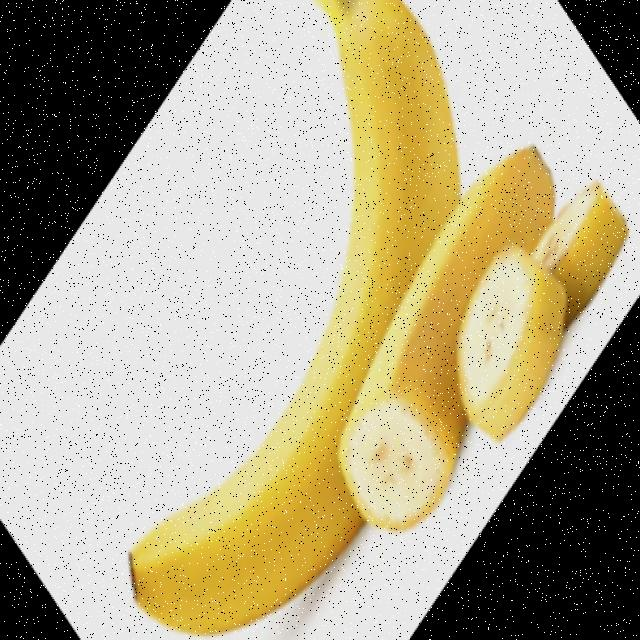god quality banana: (131, 2, 630, 633)
